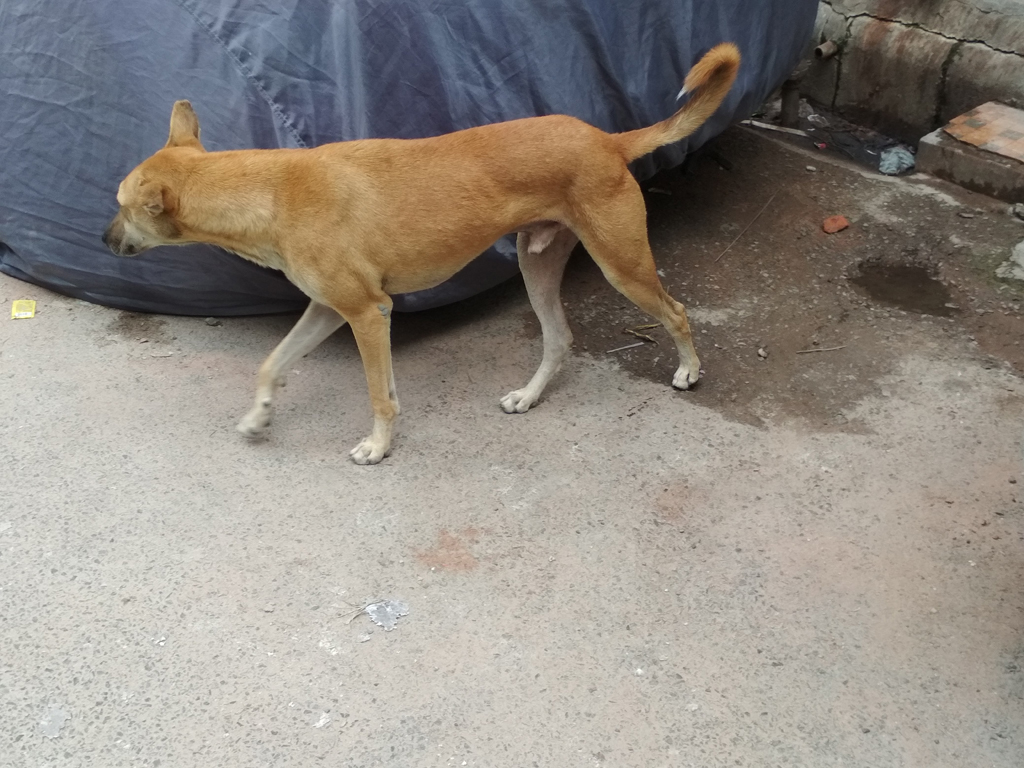dog: (103, 43, 742, 464)
